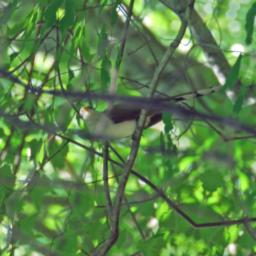Cuckoo: (71, 39, 228, 172)
